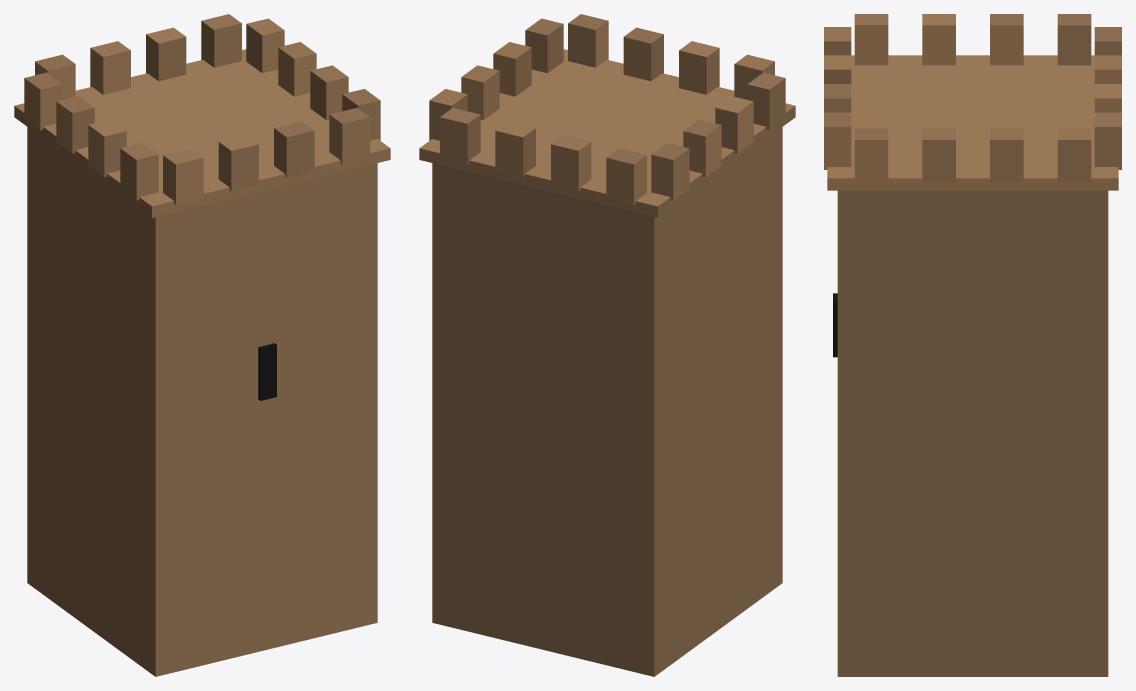
Rendered from walk_sunborn_tower.glb.
3 views of the same model, side by side, from view 1: azimuth 30°, elevation 25°; view 2: azimuth 150°, elevation 25°; view 3: azimuth 270°, elevation 25° (orthographic). The views are drawn at different scales.
Visible parts, largest first — view 1: walk_sunborn_tower; view 2: walk_sunborn_tower; view 3: walk_sunborn_tower.
Part boxes in pixels (left/top/right/bottom): walk_sunborn_tower: left=14, top=14, right=390, bottom=676; walk_sunborn_tower: left=419, top=14, right=795, bottom=676; walk_sunborn_tower: left=824, top=14, right=1121, bottom=676.
Size of what is drawn, in the model's own units: 4.4 by 8.85 by 4.4.
1 material, 1 textured.
